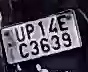1: (37, 21, 47, 37)
3: (50, 33, 61, 52), (28, 39, 39, 57)
4: (48, 18, 58, 35)
6: (39, 35, 51, 56)
9: (62, 32, 73, 49)
C: (18, 42, 29, 59)
E: (57, 16, 68, 32)
P: (24, 24, 37, 40)
U: (14, 27, 26, 43)
